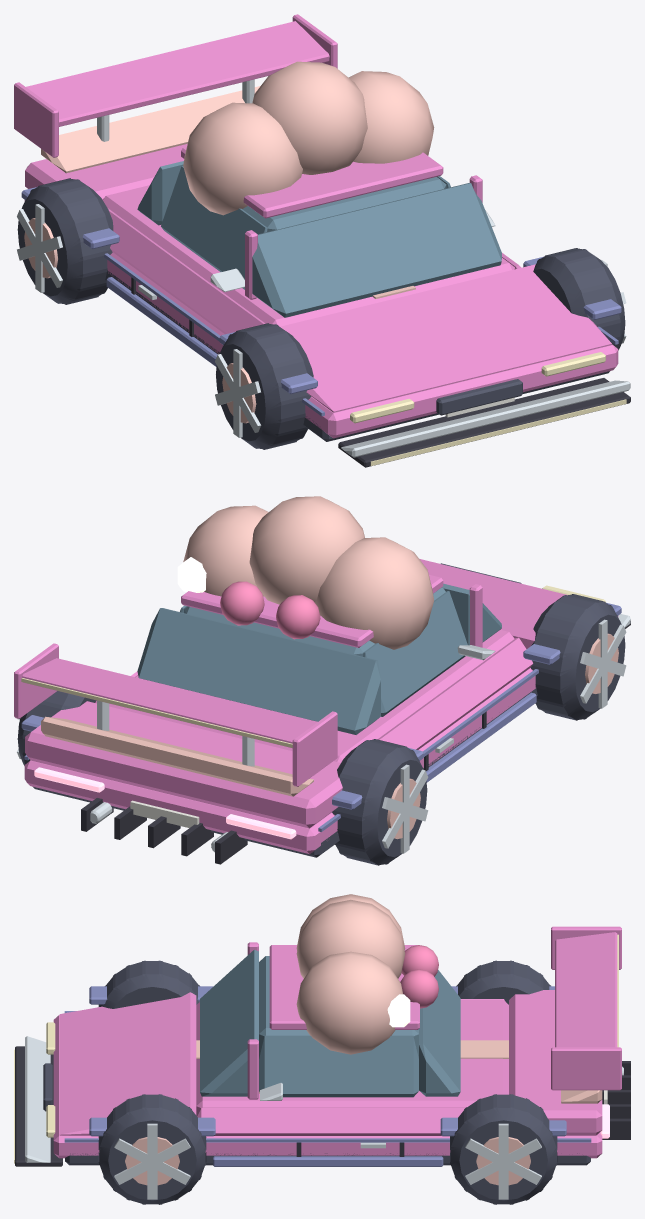
File: moonlit_mule.fbx
3 views of the same model, one above another, from view 1: azimuth 30°, elevation 25°; view 2: azimuth 150°, elevation 25°; view 3: azimuth 270°, elevation 25° (orthographic). The views are drawn at different scales.
Visible parts, largest first — view 1: Body, Glass, Accent2, Wheel_FR, Wheel_RR, Accent, Accent3, Metal, Wheel_FL, Trim, Light, Trim2 (+1 smaller); view 2: Body, Accent2, Glass, Wheel_FR, Wheel_RR, Metal, Accent, Trim, Accent5, Light, Light2, Metal2 (+5 smaller); view 3: Body, Glass, Accent2, Wheel_FL, Wheel_RL, Accent, Metal, Wheel_FR, Trim, Accent3, Wheel_RR, Accent5 (+5 smaller).
Part boxes in pixels (x1,y1,x2,y2): Body: [14, 14, 618, 438]; Glass: [137, 161, 501, 317]; Accent2: [41, 61, 434, 215]; Wheel_FR: [216, 323, 313, 449]; Wheel_RR: [17, 178, 113, 304]; Accent: [21, 187, 621, 416]; Accent3: [210, 210, 630, 457]; Metal: [17, 79, 626, 437]; Wheel_FL: [533, 248, 625, 350]; Trim: [131, 277, 630, 467]; Light: [350, 352, 626, 465]; Trim2: [105, 270, 609, 441]; Body: [14, 559, 618, 854]; Accent2: [41, 496, 433, 796]; Glass: [137, 583, 501, 734]; Wheel_FR: [530, 594, 625, 720]; Wheel_RR: [332, 739, 427, 865]; Metal: [17, 619, 626, 853]; Accent: [21, 602, 621, 831]; Trim: [81, 621, 630, 864]; Accent5: [220, 581, 320, 639]; Light: [21, 585, 605, 747]; Light2: [34, 767, 296, 839]; Metal2: [387, 633, 618, 839]; Body: [53, 926, 621, 1158]; Glass: [200, 949, 460, 1097]; Accent2: [259, 894, 602, 1103]; Wheel_FL: [98, 1094, 206, 1204]; Wheel_RL: [450, 1094, 557, 1204]; Accent: [64, 986, 591, 1166]; Metal: [114, 1066, 623, 1199]; Wheel_FR: [98, 960, 199, 1008]; Trim: [15, 1046, 630, 1166]; Accent3: [25, 1036, 282, 1162]; Wheel_RR: [456, 960, 550, 1004]; Accent5: [400, 945, 438, 1008].
Size of the model in its own units: 3.3 by 2.19 by 5.4.
